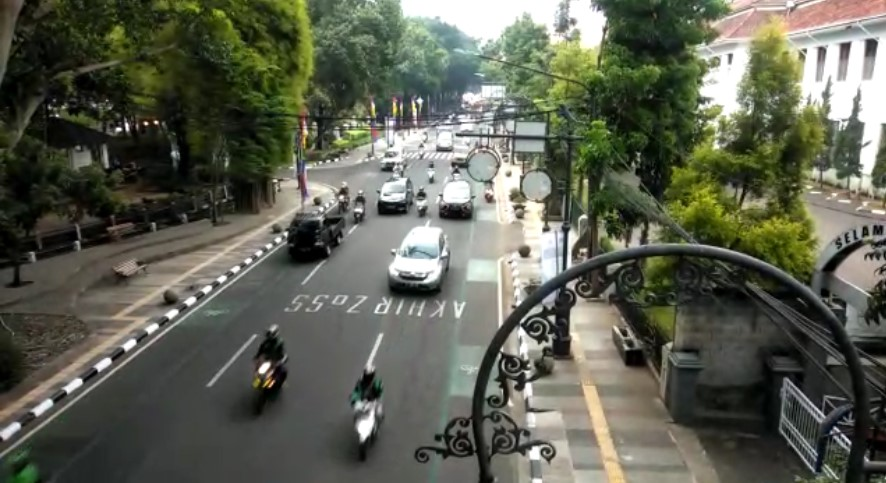mobil: (385, 226, 452, 293), (281, 206, 346, 259), (377, 177, 414, 217), (437, 180, 476, 217)
motor: (244, 320, 296, 417), (348, 367, 390, 454), (350, 193, 369, 224), (334, 182, 352, 212), (412, 186, 429, 217)
